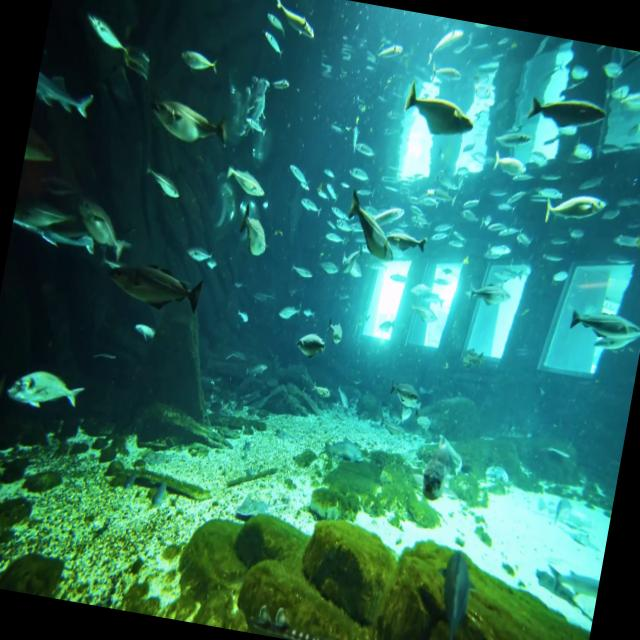fish: (100, 253, 204, 316), (146, 97, 234, 153), (402, 82, 478, 142), (341, 190, 404, 260), (566, 296, 640, 354), (6, 363, 83, 414), (540, 184, 610, 233), (528, 92, 606, 132)
